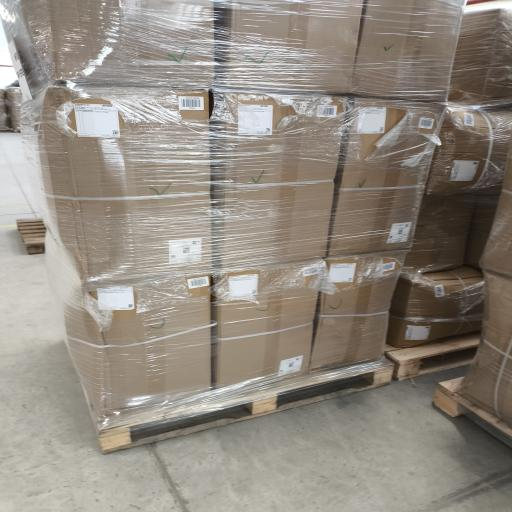pallet: (98, 360, 392, 453), (434, 378, 511, 447), (386, 332, 480, 380), (17, 219, 46, 254)
